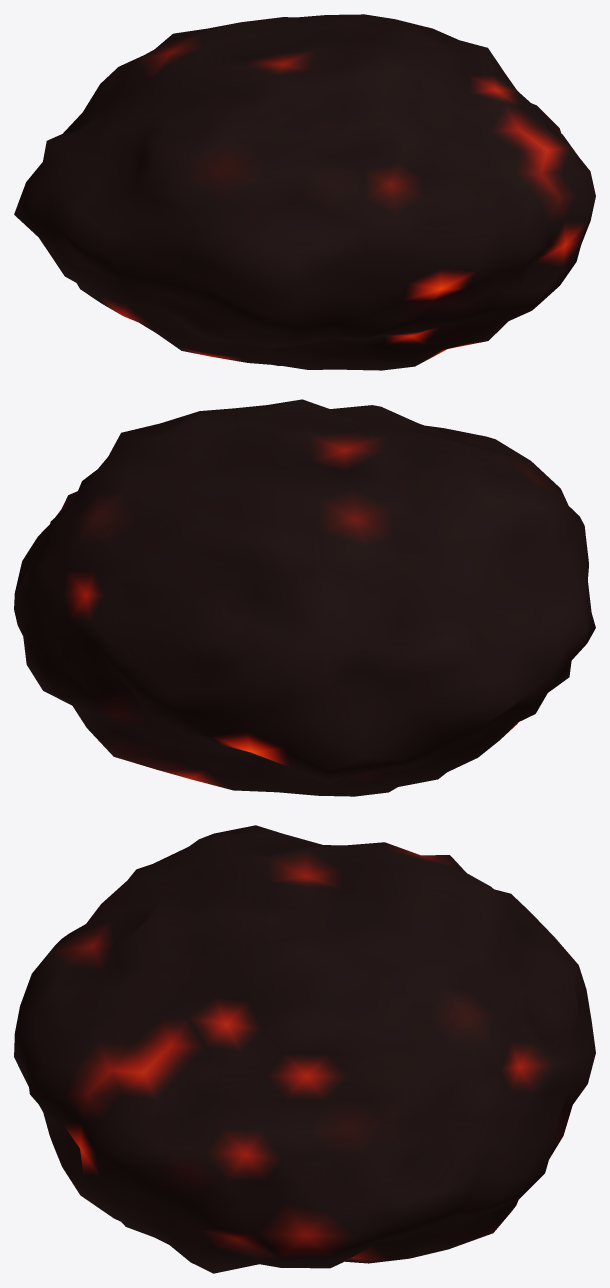
File: bomb_cooling.glb
3 renders of one model, top to bottom at view 1: azimuth 30°, elevation 25°; view 2: azimuth 150°, elevation 25°; view 3: azimuth 270°, elevation 25°, orthographic. The views are drawn at different scales.
Bounding box in the file's own units: 2.72 × 1.6 × 2.46.
